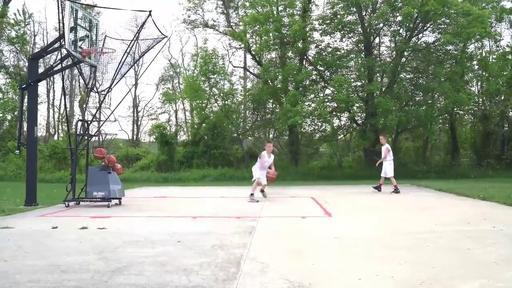ball: (94, 148, 106, 160), (104, 155, 116, 165), (267, 170, 277, 180), (114, 164, 122, 172)
human: (372, 134, 401, 194), (248, 141, 276, 202)
rim: (84, 46, 116, 74)
